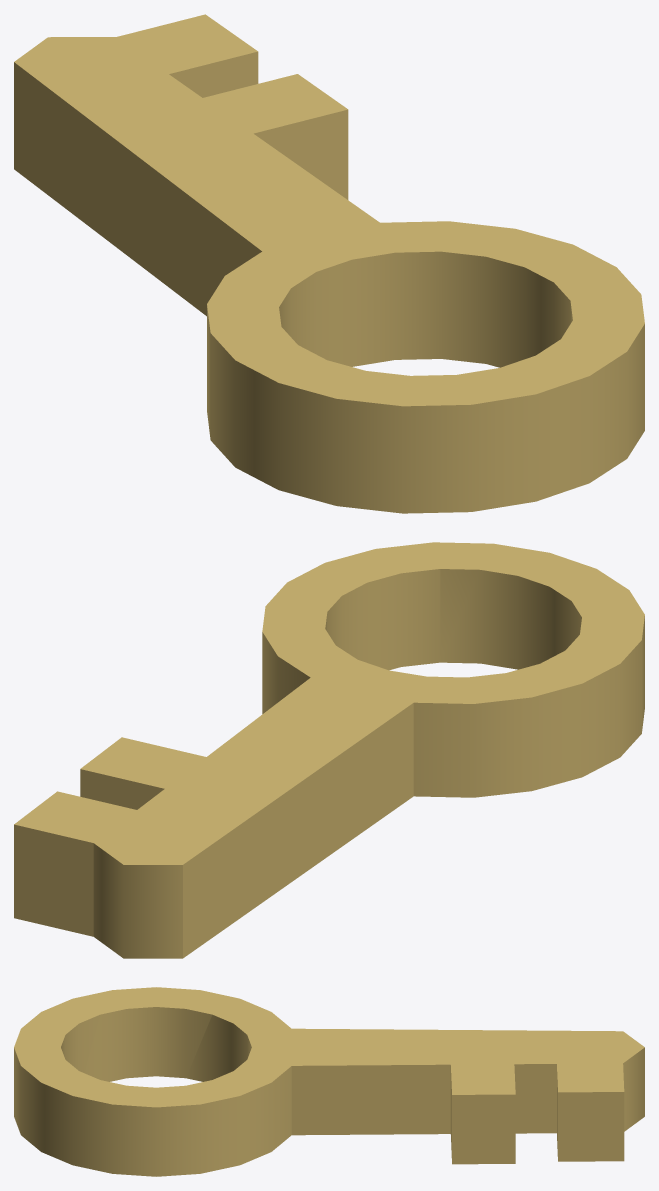
The model's file is finishedKey.fbx.
The picture shows the model from 3 angles, top to bottom: view 1: azimuth 30°, elevation 25°; view 2: azimuth 150°, elevation 25°; view 3: azimuth 270°, elevation 25°; orthographic projection. The views are drawn at different scales.
Parts seen in each view (by area): view 1: pCylinder3; view 2: pCylinder3; view 3: pCylinder3.
Part boxes in pixels (<box>): pCylinder3: <box>14,14,644,513</box>; pCylinder3: <box>14,542,644,958</box>; pCylinder3: <box>14,987,644,1176</box>.
Size of the model in its own units: 2 by 0.5375 by 4.43.
